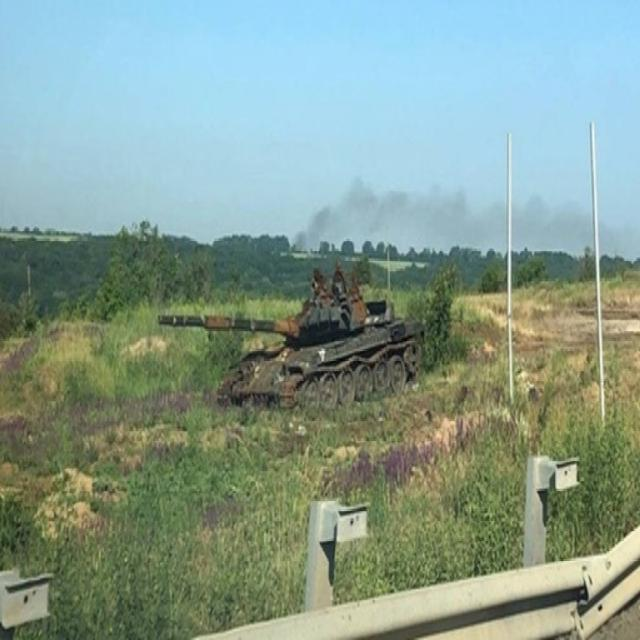TANK: (156, 271, 422, 416)
